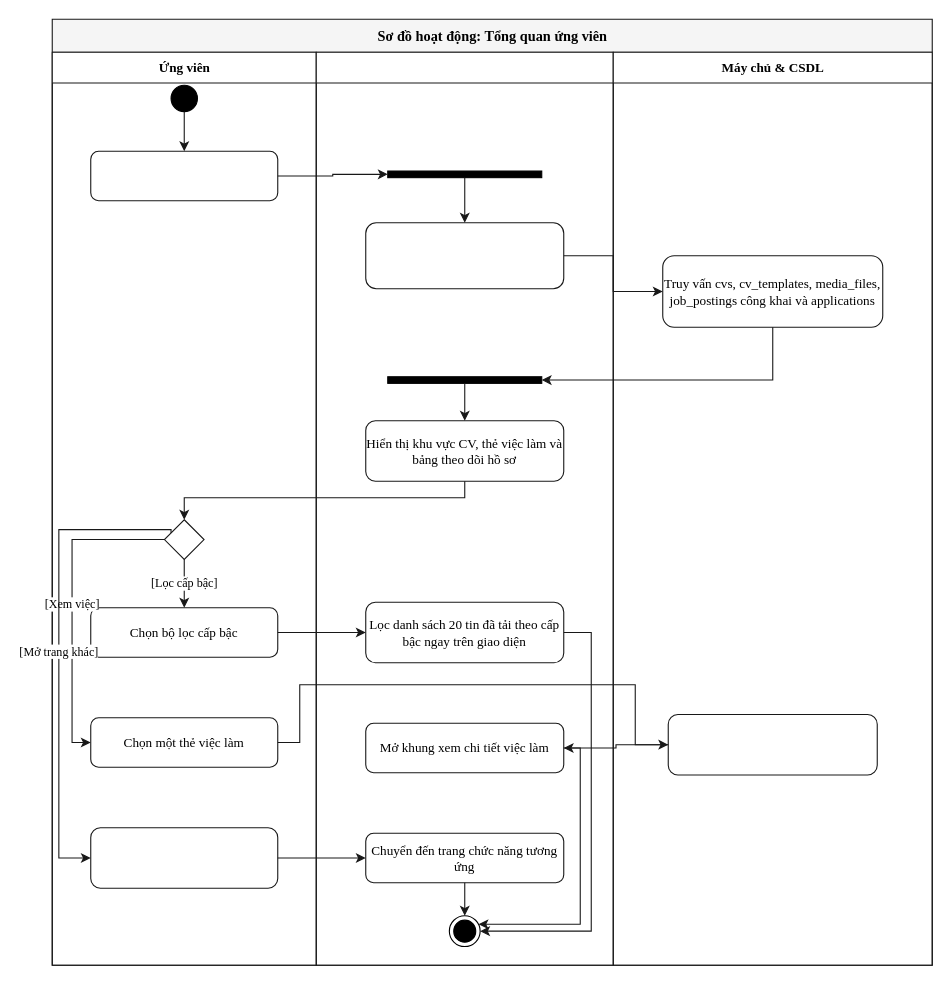
Some shapes in this 952 by 985 pixel diagram are drawn without their labels. Here are the shapes that lost their labels. From the top down, the box of each, then its label:
(90, 150, 278, 201): Mở trang tổng quan ứng viên
(365, 222, 564, 289): Gửi song song yêu cầu tải CV, tối đa 20 tin công khai và tối đa 5 hồ sơ đã nộp
(315, 51, 613, 965): Ứng dụng Client
(667, 713, 877, 775): Truy vấn thông tin chi tiết việc làm từ job_postings
(90, 827, 278, 888): Nhấn Xem tất cả hoặc đi tới trang tìm việc, hồ sơ, CV
